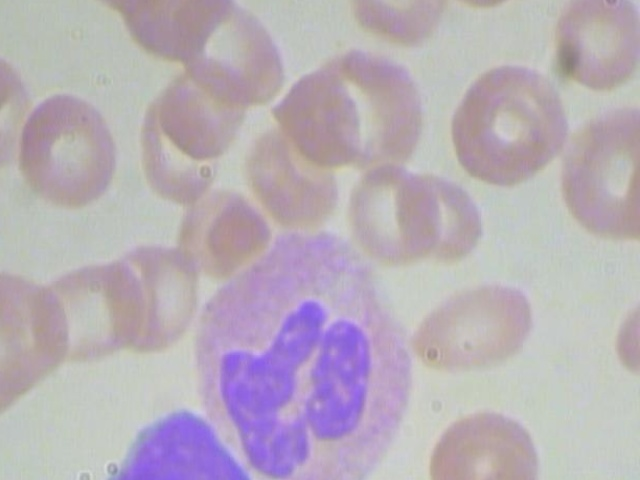RBC: (406, 265, 537, 390), (24, 251, 151, 374), (11, 83, 125, 210), (149, 47, 260, 171), (459, 59, 573, 175), (89, 238, 203, 354), (344, 152, 442, 264), (416, 406, 546, 480), (392, 165, 486, 265), (549, 0, 640, 99)
WBC: (174, 223, 410, 480), (92, 406, 269, 480)
